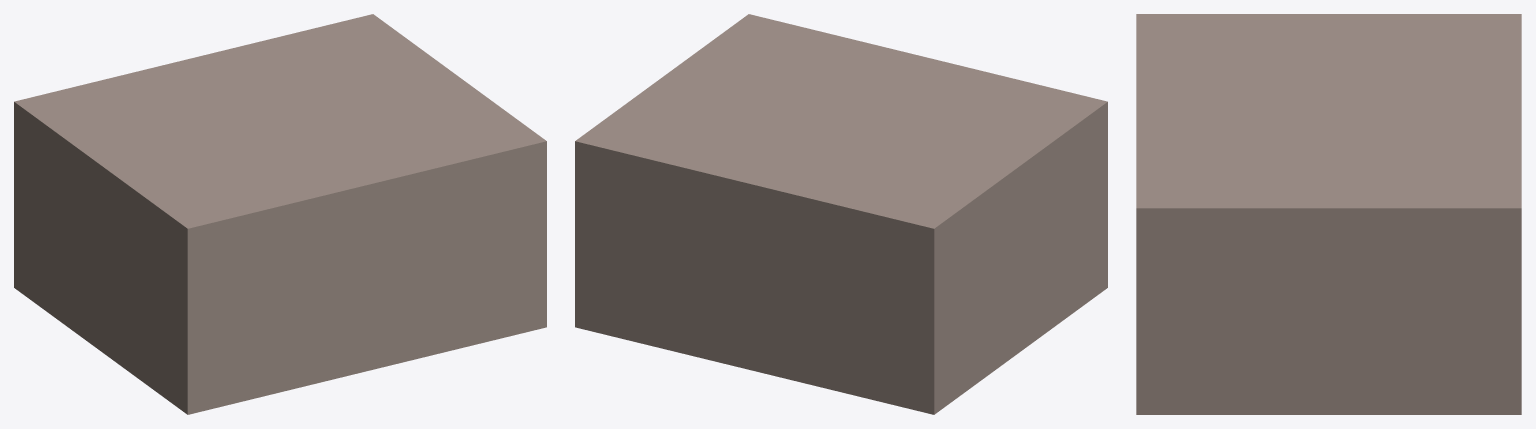
Rendered from workshop-tool-chest_lod1.glb.
3 renders of one model, left to right at view 1: azimuth 30°, elevation 25°; view 2: azimuth 150°, elevation 25°; view 3: azimuth 270°, elevation 25°, orthographic. The views are drawn at different scales.
Visible parts, largest first — view 1: world; view 2: world; view 3: world.
Part boxes in pixels (box(x1,y1,x2,y2)): world: box(14, 14, 546, 414); world: box(575, 14, 1107, 414); world: box(1136, 14, 1521, 414).
Size of the model in its own units: 1.05 by 0.5555 by 0.88.
